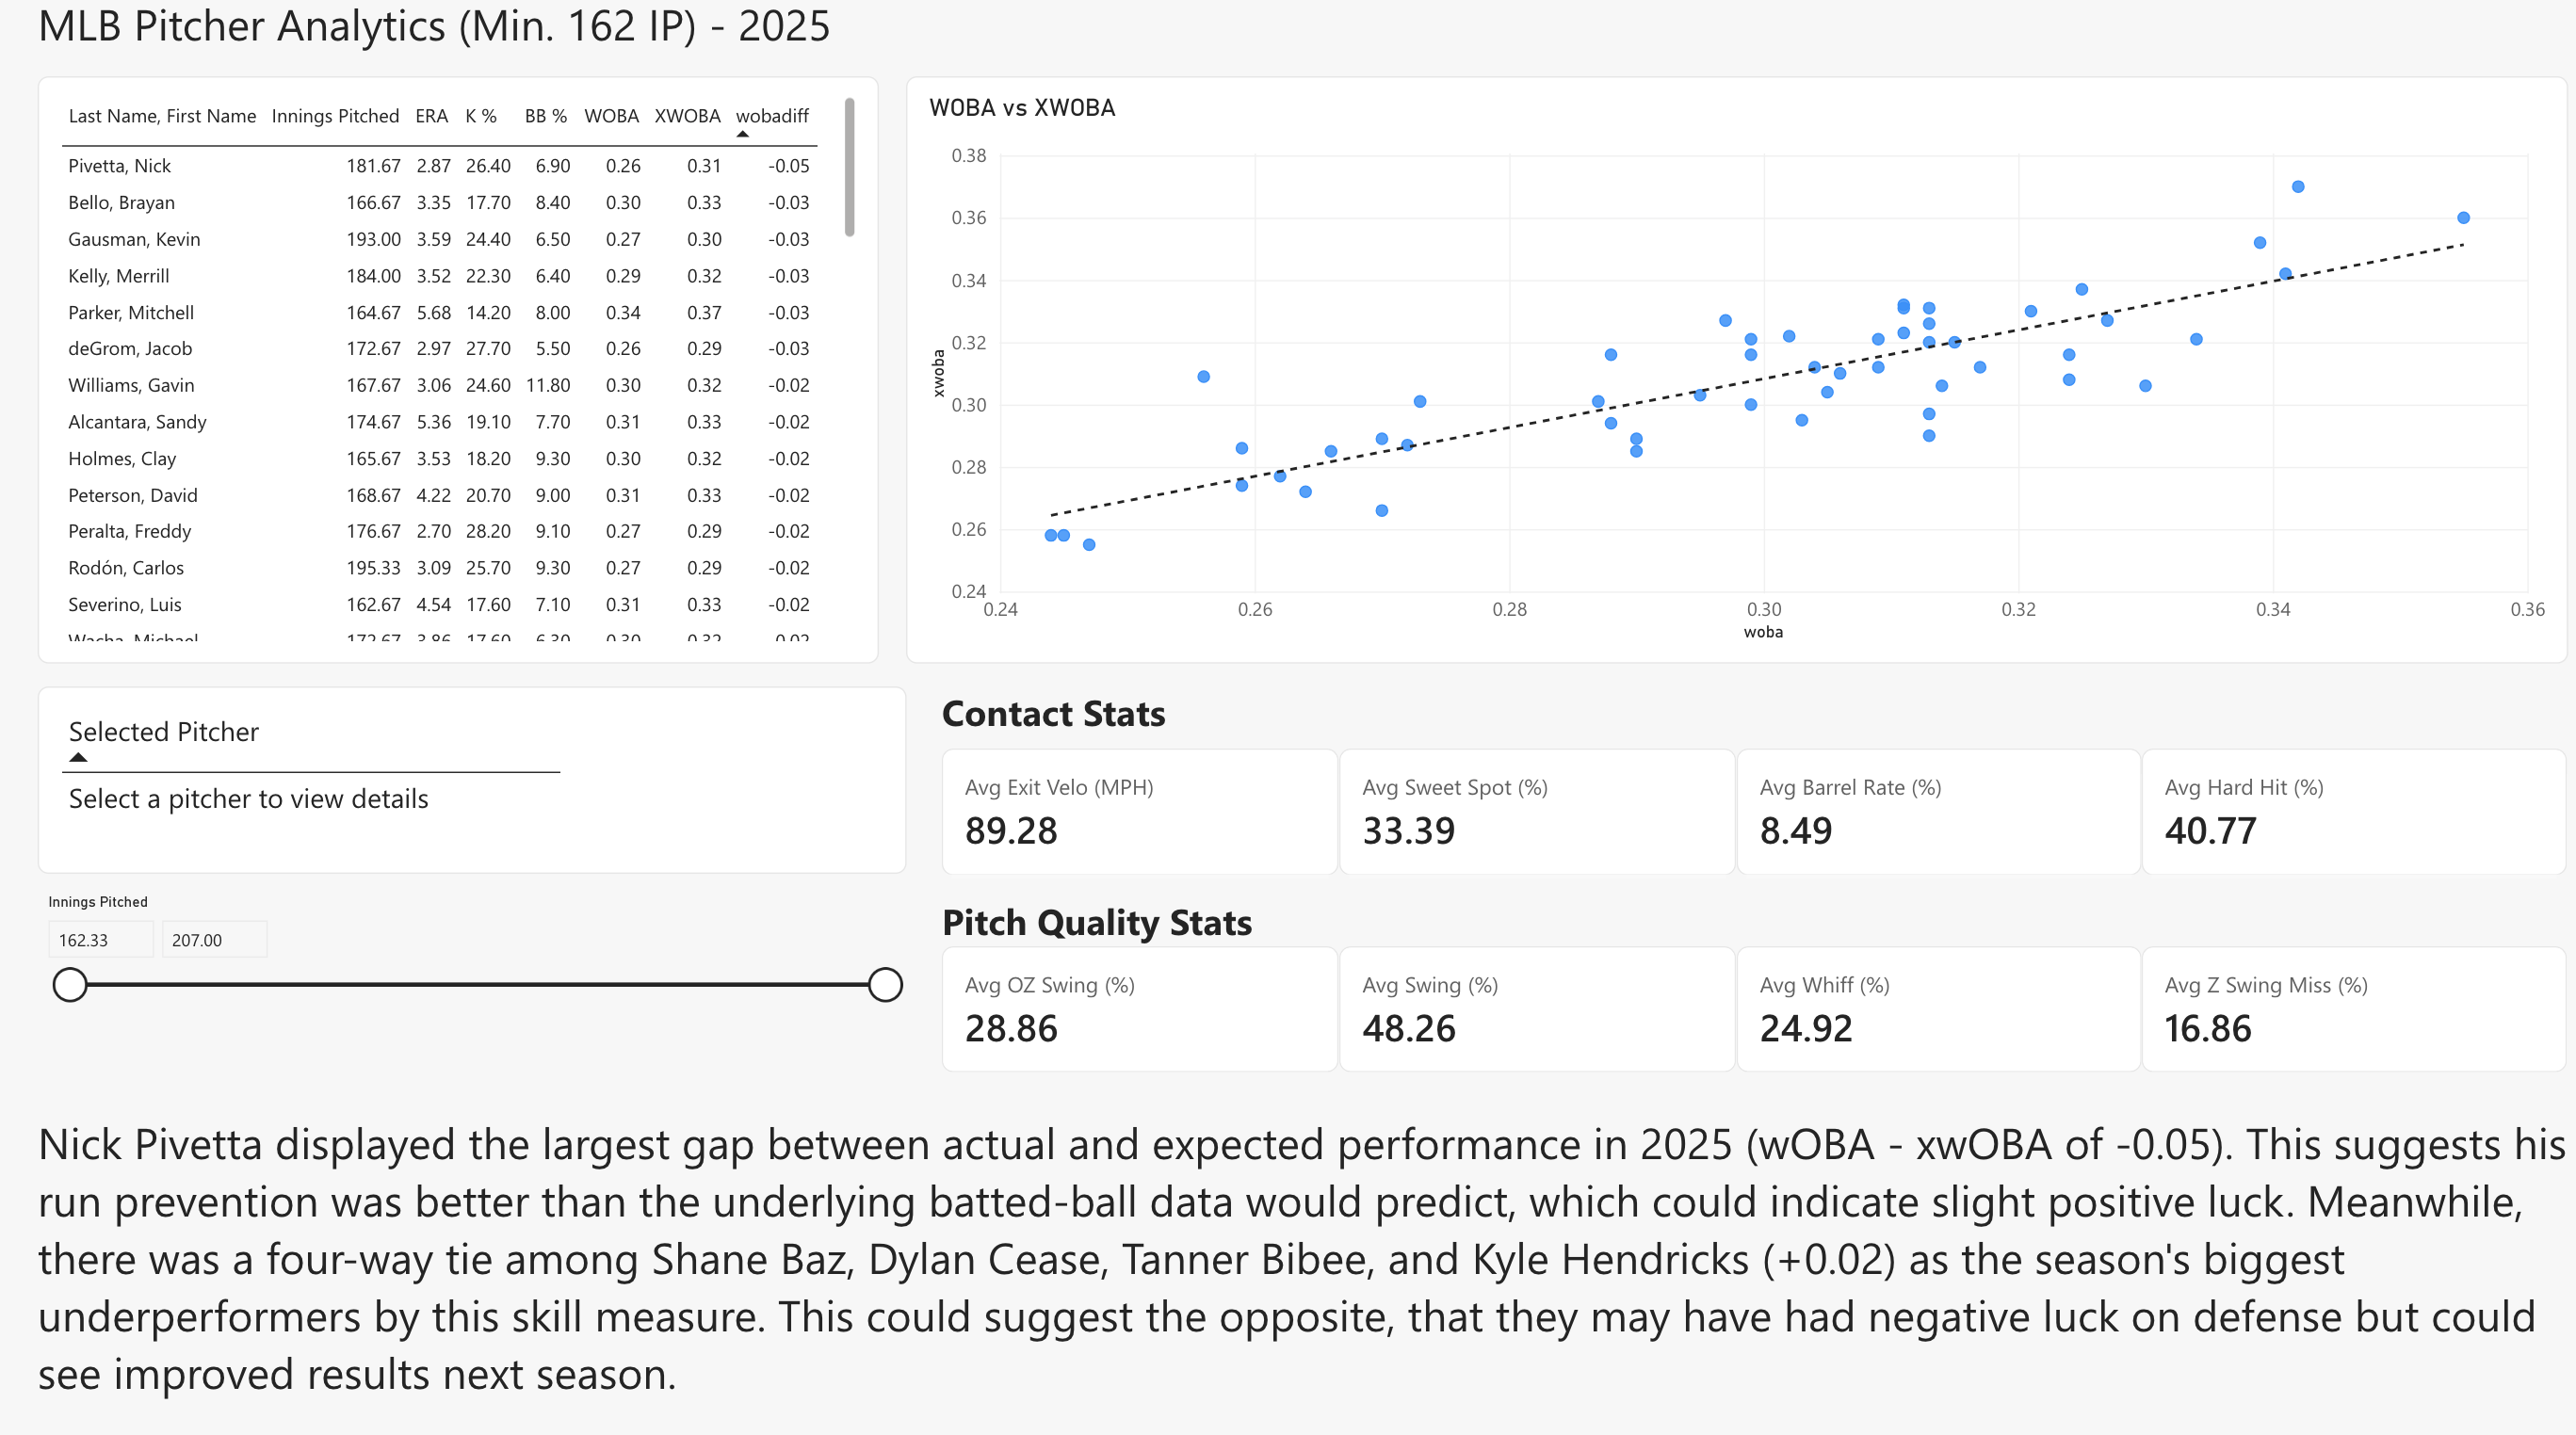

What the dashboard file says about the page in this screenshot:
{"tool":"powerbi","page":{"name":"Page 1","canvas":[1920,1080],"ordinal":0},"visuals":[{"type":"tableEx","fields":{"Values":["baseball_stats.last_name, first_name","baseball_stats.ip_decimal","baseball_stats.p_era","baseball_stats.k_percent","baseball_stats.bb_percent","baseball_stats.woba","baseball_stats.xwoba","baseball_stats.wobadiff"]},"box":[31.8,61.8,621.4,434.2],"z":0},{"type":"scatterChart","title":"WOBA vs XWOBA","fields":{"X":["baseball_stats.woba"],"Y":["baseball_stats.xwoba"]},"box":[673.8,61.8,1227.9,434.2],"z":1000},{"type":"textbox","box":[31.8,0,621.4,61.8],"z":2000},{"type":"tableEx","fields":{"Values":["baseball_stats.Selected Pitcher"]},"box":[31.8,512.9,642,138.5],"z":3000},{"type":"slicer","fields":{"Values":["baseball_stats.ip_decimal"]},"box":[31.8,666.3,642,131],"z":4000},{"type":"textbox","box":[31.8,827.3,1869.9,217.1],"z":5000},{"type":"cardVisual","fields":{"Data":["baseball_stats.Avg Barrel Rate"]},"box":[1287.8,557.8,299.5,93.6],"z":6000},{"type":"cardVisual","fields":{"Data":["baseball_stats.Avg Exit Velo"]},"box":[700,557.8,293.9,93.6],"z":7000},{"type":"cardVisual","fields":{"Data":["baseball_stats.Avg Hard Hit"]},"box":[1587.2,557.8,314.5,93.6],"z":8000},{"type":"cardVisual","fields":{"Data":["baseball_stats.Avg OZ Swing"]},"box":[700,703.8,293.9,93.6],"z":9000},{"type":"cardVisual","fields":{"Data":["baseball_stats.Avg Sweet Spot"]},"box":[993.9,557.8,293.9,93.6],"z":10000},{"type":"cardVisual","fields":{"Data":["baseball_stats.Avg Swing"]},"box":[993.9,703.8,293.9,93.6],"z":11000},{"type":"cardVisual","fields":{"Data":["baseball_stats.Avg Whiff"]},"box":[1287.8,703.8,299.5,93.6],"z":12000},{"type":"cardVisual","fields":{"Data":["baseball_stats.Avg Z Swing Miss"]},"box":[1587.2,703.8,314.5,93.6],"z":13000},{"type":"textbox","box":[700,512.9,177.8,35.6],"z":14000},{"type":"textbox","box":[700,666.3,303.2,43.1],"z":15000}]}

Visuals, with their boxes in screenshot pixels (x1, y1, x2, y2), scaled from the page's 1920x1080 canvas onto the 2576x1435 screenshot:
tableEx - baseball_stats.last_name, first_name x baseball_stats.ip_decimal: detection(42, 82, 876, 659)
"WOBA vs XWOBA" scatterChart: detection(904, 82, 2552, 659)
textbox: detection(42, 0, 876, 82)
tableEx - baseball_stats.Selected Pitcher: detection(42, 682, 904, 865)
slicer - baseball_stats.ip_decimal: detection(42, 885, 904, 1059)
textbox: detection(42, 1099, 2552, 1388)
cardVisual - baseball_stats.Avg Barrel Rate: detection(1727, 741, 2130, 865)
cardVisual - baseball_stats.Avg Exit Velo: detection(939, 741, 1334, 865)
cardVisual - baseball_stats.Avg Hard Hit: detection(2130, 741, 2552, 865)
cardVisual - baseball_stats.Avg OZ Swing: detection(939, 935, 1334, 1059)
cardVisual - baseball_stats.Avg Sweet Spot: detection(1334, 741, 1727, 865)
cardVisual - baseball_stats.Avg Swing: detection(1334, 935, 1727, 1059)
cardVisual - baseball_stats.Avg Whiff: detection(1727, 935, 2130, 1059)
cardVisual - baseball_stats.Avg Z Swing Miss: detection(2130, 935, 2552, 1059)
textbox: detection(939, 682, 1177, 729)
textbox: detection(939, 885, 1346, 943)
